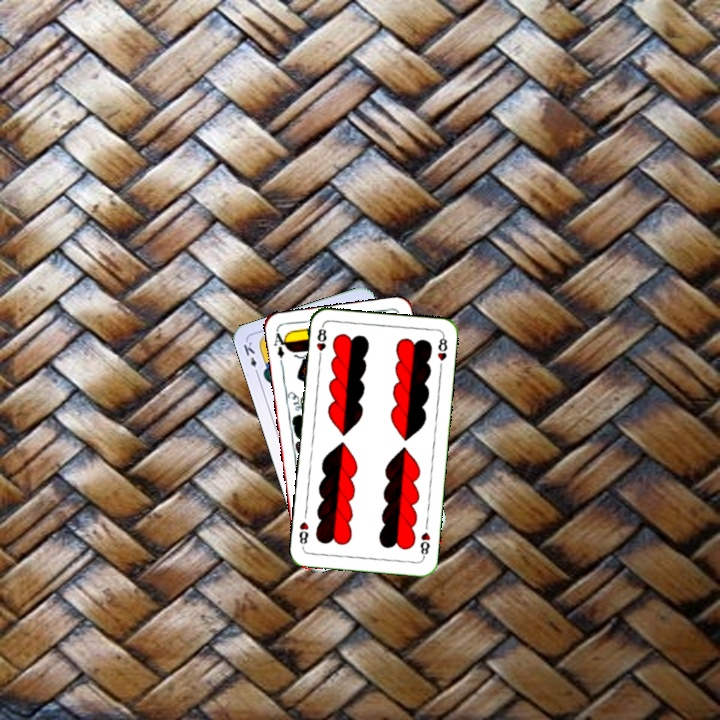EA: (270, 327, 291, 368)
EK: (239, 338, 262, 378)
H8: (313, 322, 329, 362), (416, 528, 433, 561)
